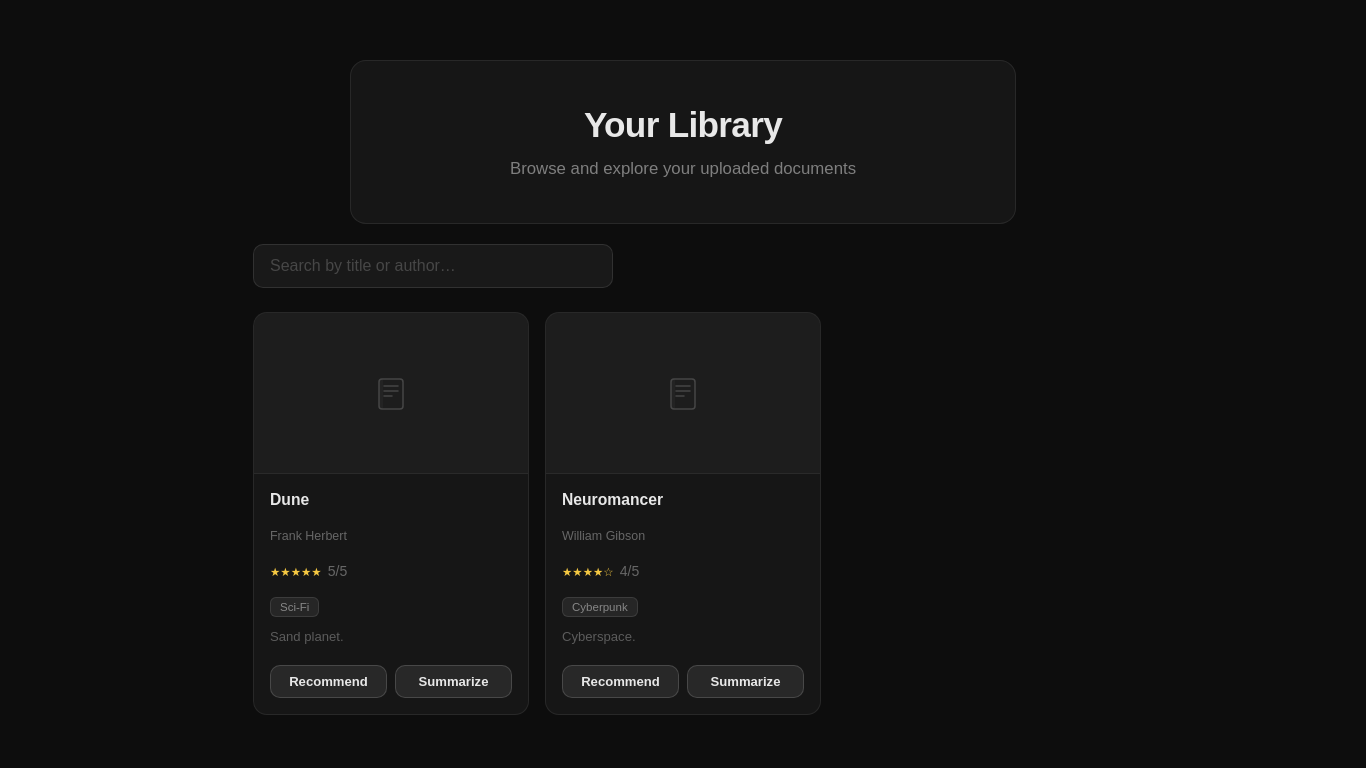
Test case: Library component › opens summary modal on Summarize click
Expected: the text "Dune" is shown, [270,491,309,508]
Click the button "Summarize" below "Sand planet.".
click(454, 681)  # box [395,664,512,698]
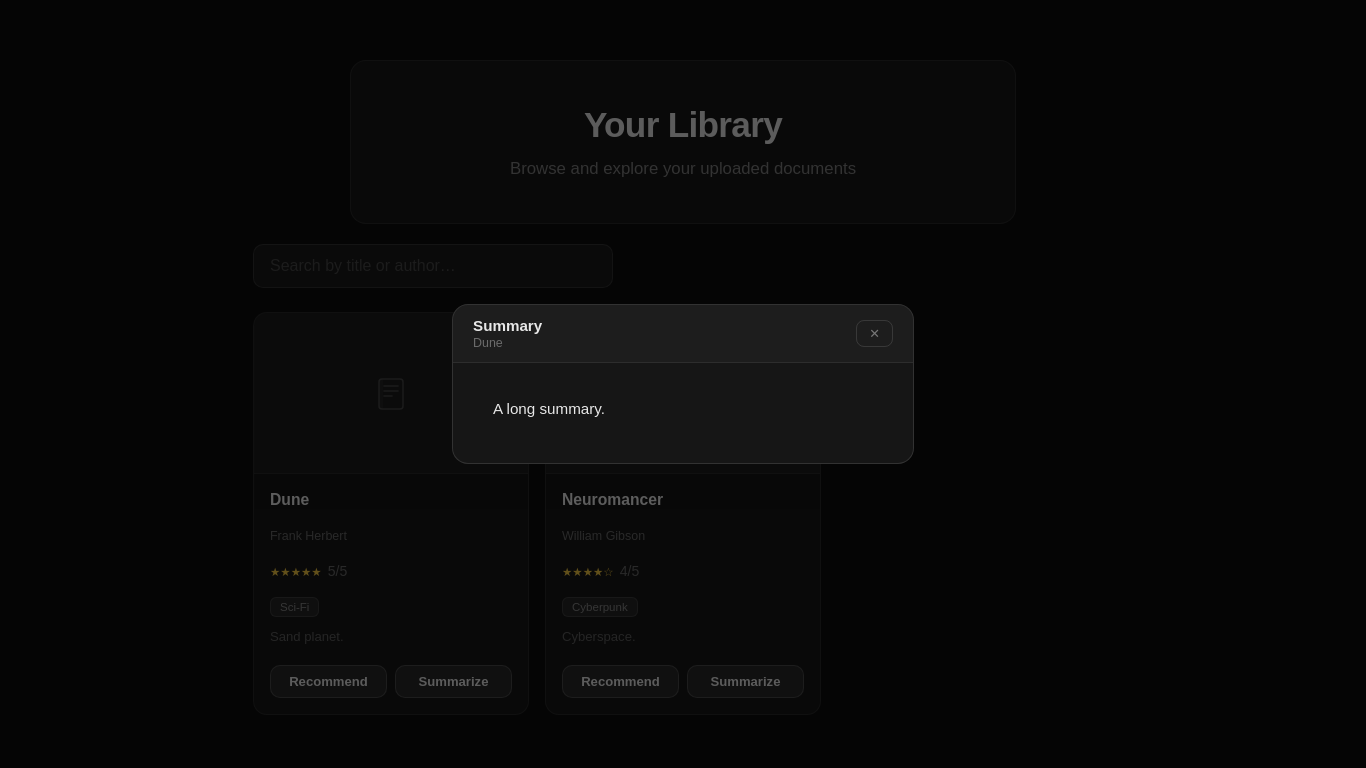
Expected: the text "A long summary." is shown, [493,400,605,417]
